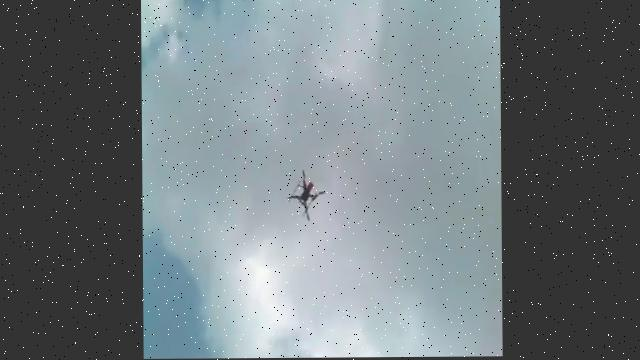drone: (284, 168, 326, 222)
